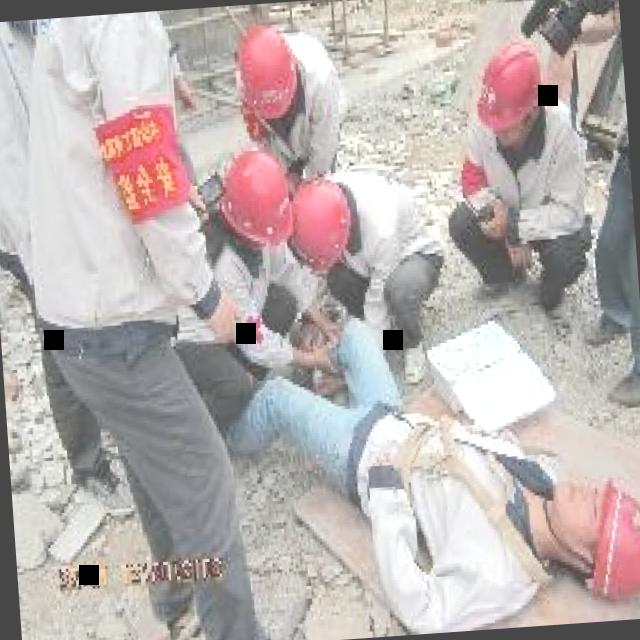Fall-Detected: (199, 259, 640, 640)
